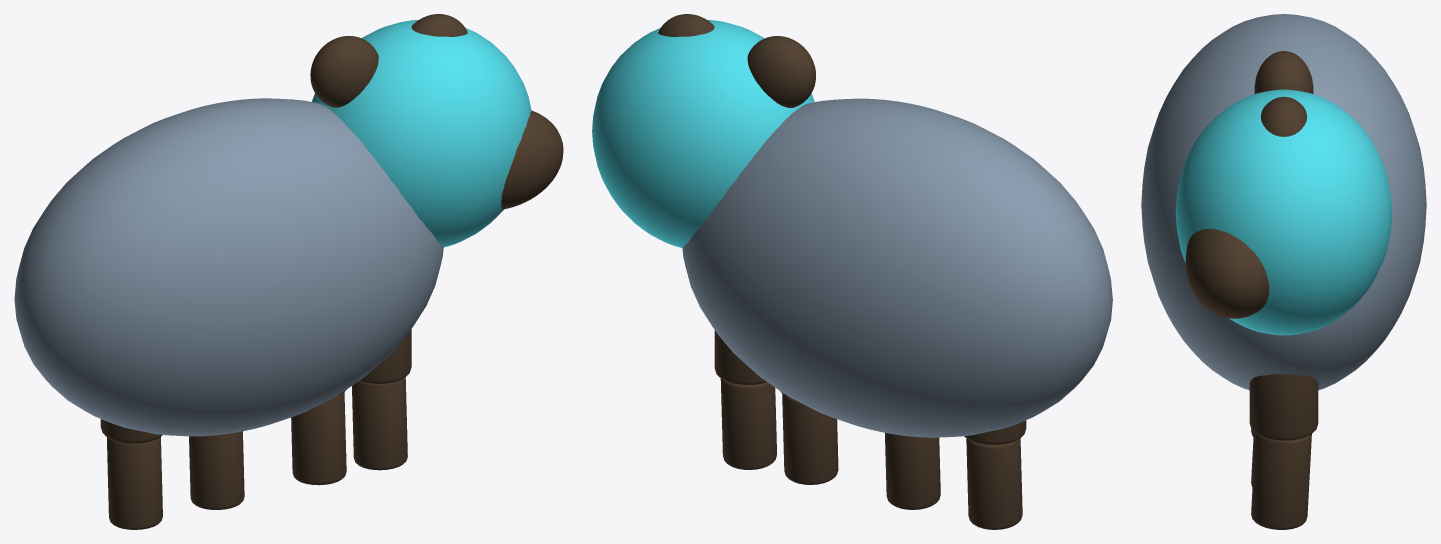
Rendered from beast_v5.glb.
3 views of the same model, side by side, from view 1: azimuth 30°, elevation 25°; view 2: azimuth 150°, elevation 25°; view 3: azimuth 270°, elevation 25° (orthographic). The views are drawn at different scales.
Visible parts, largest first — view 1: BEAR_BODY_PRIMARY, BEAR_HEAD_ACCENT, BEAR_LOWER_LEG_SECONDARY, BEAR_LOWER_LEG_SECONDARY.003, BEAR_LOWER_LEG_SECONDARY.002, BEAR_LOWER_LEG_SECONDARY.001, BEAR_MUZZLE_SECONDARY, BEAR_EAR_SECONDARY, BEAR_UPPER_LEG_SECONDARY.003, BEAR_EAR_SECONDARY.001, BEAR_UPPER_LEG_SECONDARY; view 2: BEAR_BODY_PRIMARY, BEAR_HEAD_ACCENT, BEAR_LOWER_LEG_SECONDARY, BEAR_LOWER_LEG_SECONDARY.003, BEAR_LOWER_LEG_SECONDARY.002, BEAR_LOWER_LEG_SECONDARY.001, BEAR_EAR_SECONDARY, BEAR_UPPER_LEG_SECONDARY.003, BEAR_EAR_SECONDARY.001, BEAR_UPPER_LEG_SECONDARY; view 3: BEAR_BODY_PRIMARY, BEAR_HEAD_ACCENT, BEAR_MUZZLE_SECONDARY, BEAR_LOWER_LEG_SECONDARY.003, BEAR_UPPER_LEG_SECONDARY.003, BEAR_EAR_SECONDARY, BEAR_EAR_SECONDARY.001.
Part boxes in pixels (<box>): BEAR_BODY_PRIMARY: <box>14,98,443,436</box>; BEAR_HEAD_ACCENT: <box>312,20,531,247</box>; BEAR_LOWER_LEG_SECONDARY: <box>107,437,162,529</box>; BEAR_LOWER_LEG_SECONDARY.003: <box>352,377,407,470</box>; BEAR_LOWER_LEG_SECONDARY.002: <box>291,392,346,485</box>; BEAR_LOWER_LEG_SECONDARY.001: <box>189,431,244,509</box>; BEAR_MUZZLE_SECONDARY: <box>501,110,563,209</box>; BEAR_EAR_SECONDARY: <box>310,36,378,107</box>; BEAR_UPPER_LEG_SECONDARY.003: <box>359,329,411,383</box>; BEAR_EAR_SECONDARY.001: <box>411,14,467,36</box>; BEAR_UPPER_LEG_SECONDARY: <box>100,419,162,443</box>; BEAR_BODY_PRIMARY: <box>682,98,1112,437</box>; BEAR_HEAD_ACCENT: <box>592,20,814,248</box>; BEAR_LOWER_LEG_SECONDARY: <box>966,438,1022,529</box>; BEAR_LOWER_LEG_SECONDARY.003: <box>720,378,776,469</box>; BEAR_LOWER_LEG_SECONDARY.002: <box>782,393,838,484</box>; BEAR_LOWER_LEG_SECONDARY.001: <box>885,433,940,509</box>; BEAR_EAR_SECONDARY: <box>747,36,815,107</box>; BEAR_UPPER_LEG_SECONDARY.003: <box>714,330,766,385</box>; BEAR_EAR_SECONDARY.001: <box>658,14,714,36</box>; BEAR_UPPER_LEG_SECONDARY: <box>964,420,1026,444</box>; BEAR_BODY_PRIMARY: <box>1141,14,1426,390</box>; BEAR_HEAD_ACCENT: <box>1175,89,1392,335</box>; BEAR_MUZZLE_SECONDARY: <box>1185,229,1269,318</box>; BEAR_LOWER_LEG_SECONDARY.003: <box>1251,433,1311,529</box>; BEAR_UPPER_LEG_SECONDARY.003: <box>1249,374,1318,440</box>; BEAR_EAR_SECONDARY: <box>1254,51,1313,93</box>; BEAR_EAR_SECONDARY.001: <box>1261,96,1306,136</box>.
Size of the model in its own units: 2.5 by 2.01 by 1.16.
